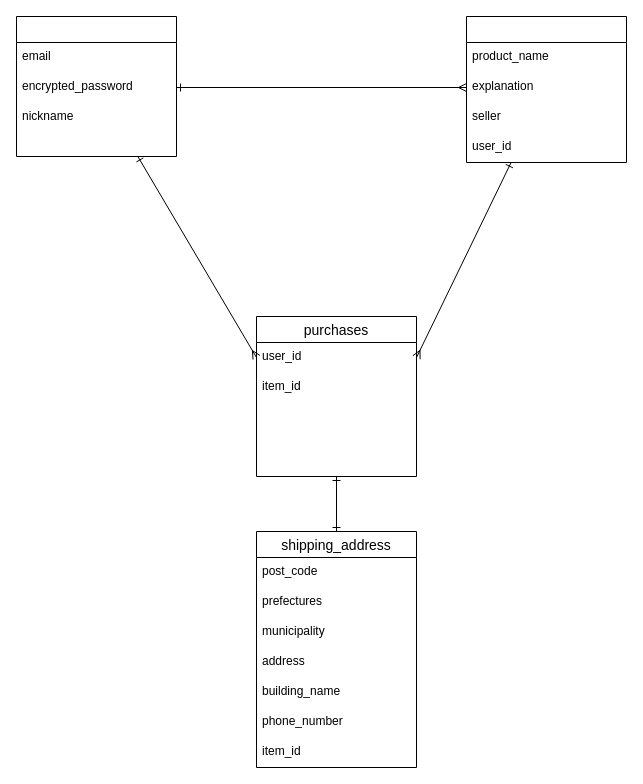
The diagram is 643 pixels wide and 784 high, and some of its shapes have lost their labels. Each missing label, with the box of its shape:
items: (466, 16, 626, 162)
users: (16, 16, 176, 156)
